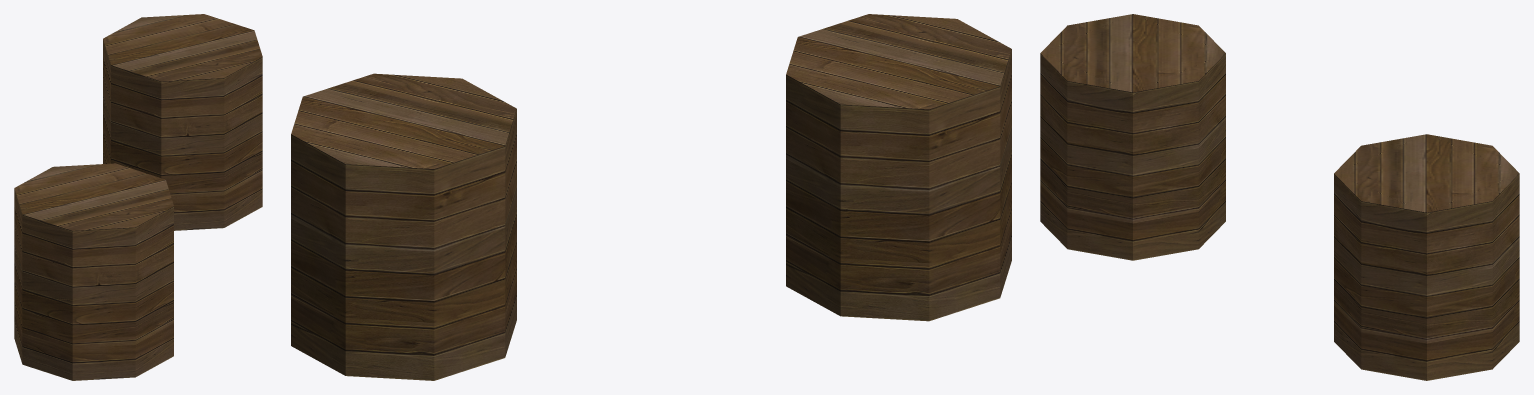
3 renders of one model, left to right at view 1: azimuth 30°, elevation 25°; view 2: azimuth 150°, elevation 25°; view 3: azimuth 270°, elevation 25°, orthographic. The views are drawn at different scales.
Visible parts, largest first — view 1: Part5_glb; view 2: Part5_glb; view 3: Part5_glb.
Part boxes in pixels (bbox=[...]): Part5_glb: bbox=[14, 14, 262, 380]; Part5_glb: bbox=[291, 14, 1011, 380]; Part5_glb: bbox=[1040, 14, 1519, 380].
Size of the model in its own units: 2.37 by 0.9373 by 2.42.
1 material, 1 textured.
